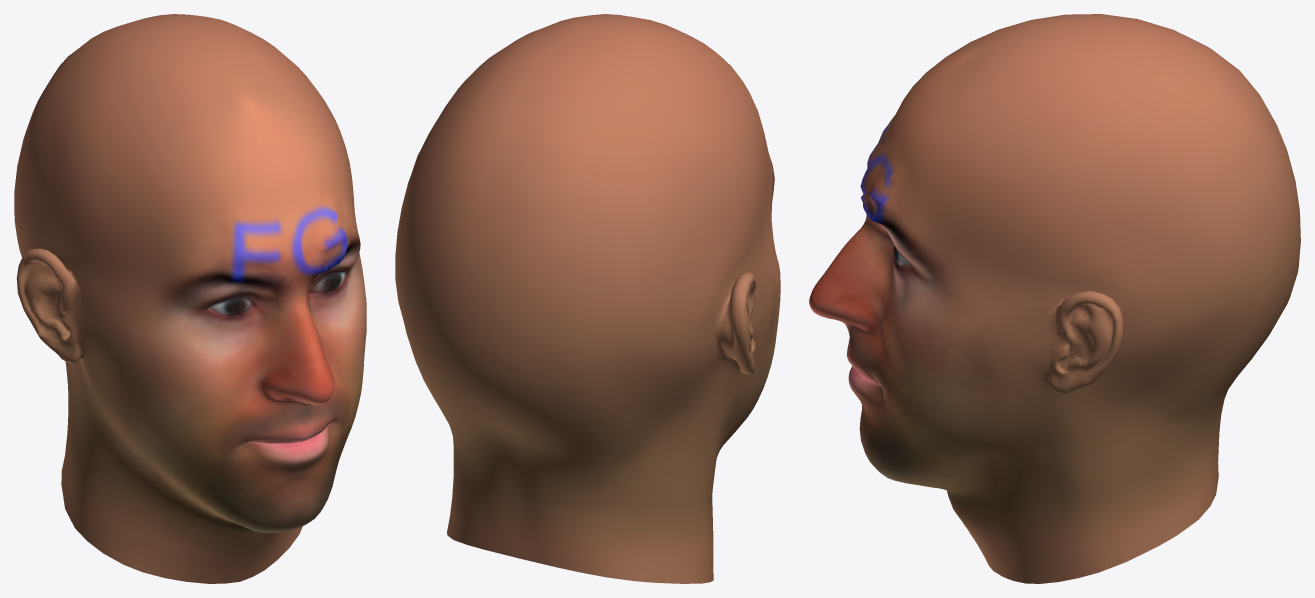
Rendered from random_anyrace_anysex_01.obj.
3 views of the same model, side by side, from view 1: azimuth 30°, elevation 25°; view 2: azimuth 150°, elevation 25°; view 3: azimuth 270°, elevation 25° (orthographic). The views are drawn at different scales.
Visible parts, largest first — view 1: HeadHires; view 2: HeadHires; view 3: HeadHires.
Part boxes in pixels (box(x1,y1,x2,y2)): HeadHires: box(14, 14, 366, 583); HeadHires: box(395, 14, 780, 583); HeadHires: box(809, 14, 1300, 583).
Size of the model in its own units: 185 by 283 by 238.
Materials: 3 (3 with a texture image).
